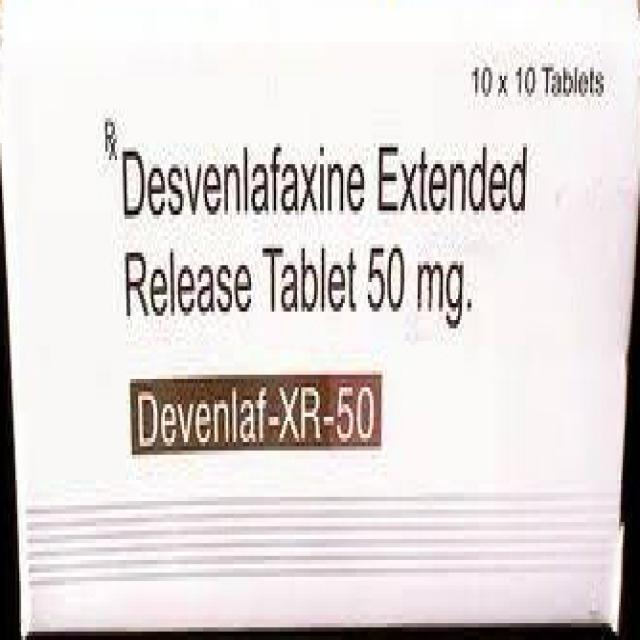drug-name: (133, 386, 374, 447)
